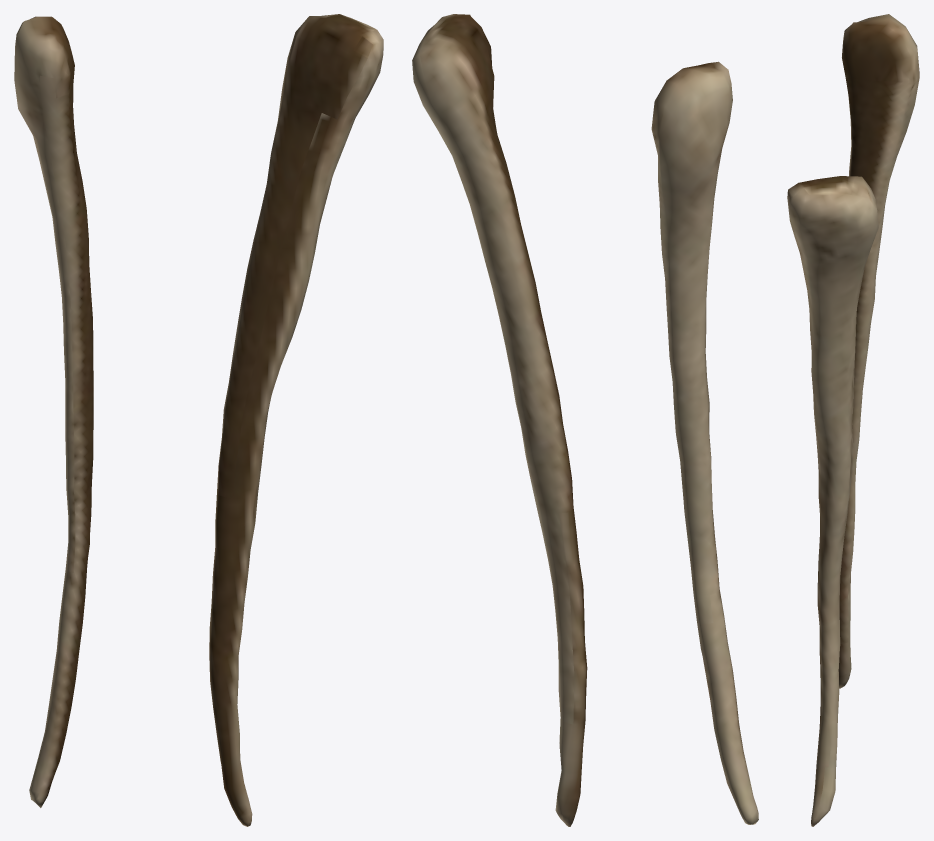
Rendered from Splints.glb.
3 renders of one model, left to right at view 1: azimuth 30°, elevation 25°; view 2: azimuth 150°, elevation 25°; view 3: azimuth 270°, elevation 25°, orthographic. The views are drawn at different scales.
Parts seen in each view (by area): view 1: R_Frt_Splints; view 2: R_Frt_Splints; view 3: R_Frt_Splints.
Boxes of the visible parts, x1,y1,x2,y2 form: R_Frt_Splints: [14, 14, 383, 826]; R_Frt_Splints: [412, 14, 758, 826]; R_Frt_Splints: [787, 14, 919, 826].
Size of the model in its own units: 0.0772 by 0.1807 by 0.0295.
Materials: 1 (1 with a texture image).
